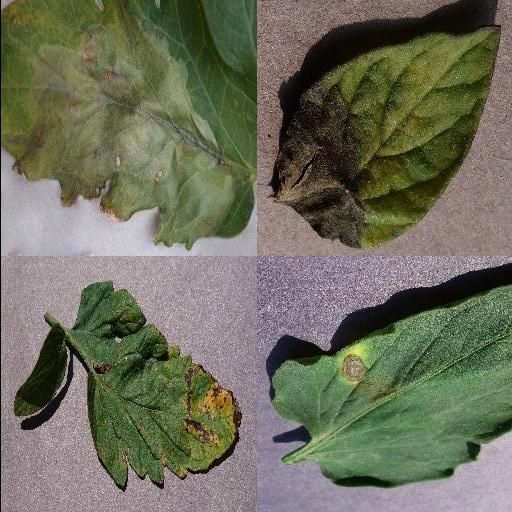Early Blight: (268, 284, 512, 488)
Late Blight: (0, 0, 256, 252), (269, 26, 501, 250)
Septoria: (75, 279, 241, 489)
